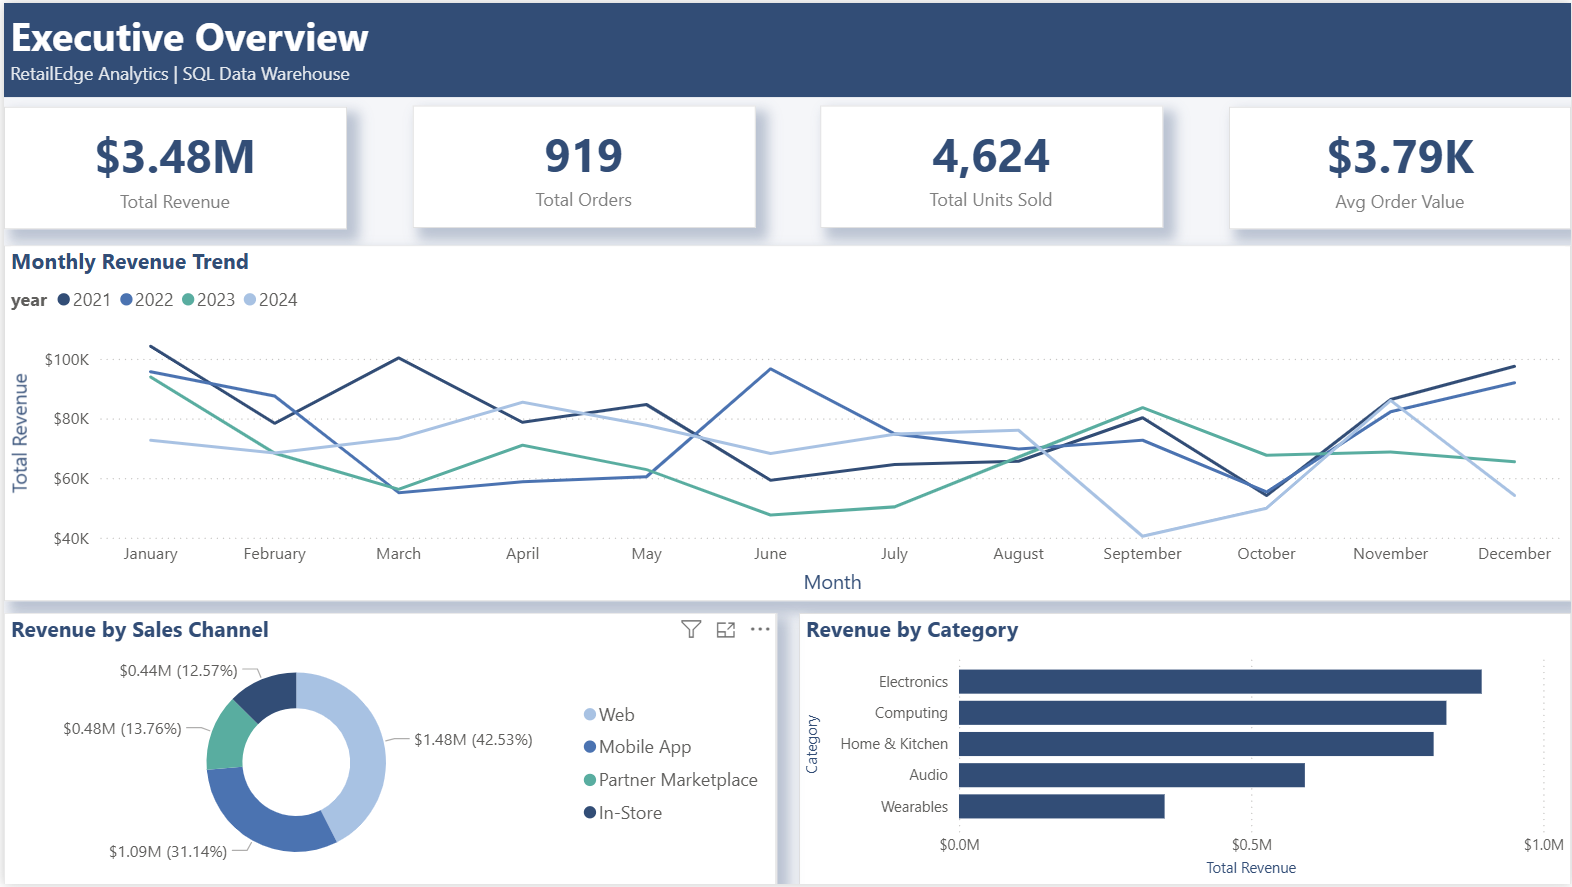

The page's visual inventory and layout, read from the dashboard file:
{"tool":"powerbi","page":{"name":"Executive Overview","canvas":[1280,720],"ordinal":0},"visuals":[{"type":"textbox","box":[0,0,1279.8,76.6],"z":0},{"type":"card","fields":{"Values":["gold fact_sales.Total Revenue"]},"box":[0,84.3,279.8,100],"z":1000},{"type":"card","fields":{"Values":["gold fact_sales.Total Orders"]},"box":[333.3,84.1,279.8,100],"z":2000},{"type":"card","fields":{"Values":["gold fact_sales.Total Units Sold"]},"box":[666.7,84.1,279.8,100],"z":3000},{"type":"card","fields":{"Values":["gold fact_sales.Avg Order Value"]},"box":[1000,84.3,279.8,100],"z":4000},{"type":"lineChart","title":"Monthly Revenue Trend","fields":{"Category":["gold dim_date.month_name"],"Y":["gold fact_sales.Total Revenue"],"Series":["gold dim_date.year"]},"box":[0,198,1280,290],"z":5000},{"type":"clusteredBarChart","title":"Revenue by Category","fields":{"Category":["gold dim_product.category"],"Y":["gold fact_sales.Total Revenue"]},"box":[649,498,631,222],"z":6000},{"type":"donutChart","title":"Revenue by Sales Channel","fields":{"Category":["gold dim_sales_channel.channel_name"],"Y":["gold fact_sales.Total Revenue"]},"box":[0,498,631,222],"z":6001}]}

Visuals, with their boxes in screenshot pixels (x1, y1, x2, y2), scaled from the page's 1280x720 canvas onto the 1572x887 screenshot:
textbox: left=0, top=0, right=1571, bottom=94
card - gold fact_sales.Total Revenue: left=0, top=104, right=344, bottom=227
card - gold fact_sales.Total Orders: left=409, top=104, right=753, bottom=227
card - gold fact_sales.Total Units Sold: left=819, top=104, right=1162, bottom=227
card - gold fact_sales.Avg Order Value: left=1228, top=104, right=1571, bottom=227
"Monthly Revenue Trend" lineChart: left=0, top=244, right=1571, bottom=601
"Revenue by Category" clusteredBarChart: left=797, top=614, right=1571, bottom=886
"Revenue by Sales Channel" donutChart: left=0, top=614, right=775, bottom=886
